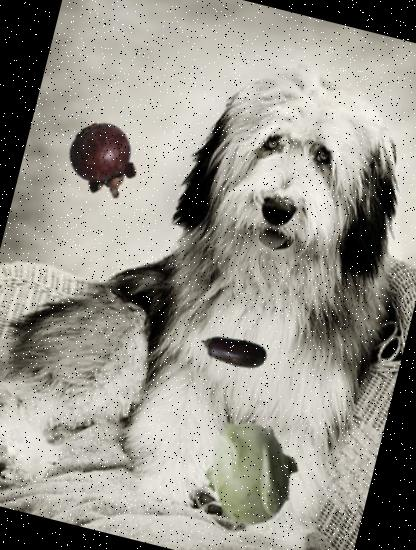Eggplant: (190, 310, 276, 395)
Kohlrabi: (186, 407, 317, 538)
Mangostan: (56, 114, 152, 210)
